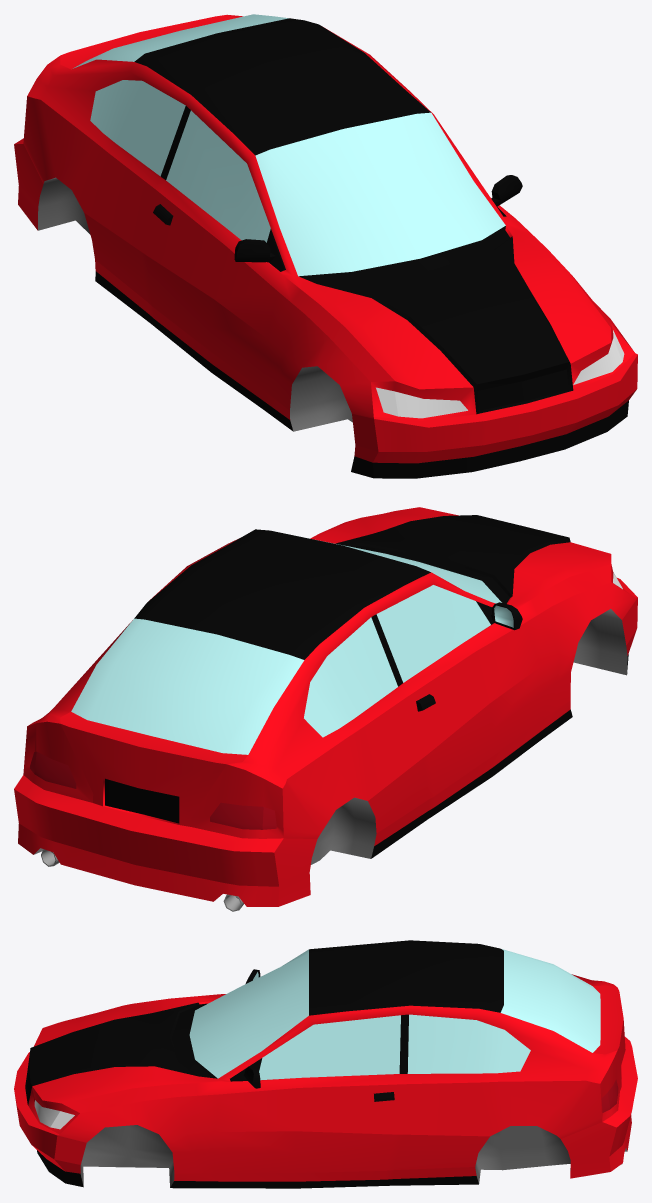
Rendered from S64Compact_Body_1.fbx.
3 views of the same model, one above another, from view 1: azimuth 30°, elevation 25°; view 2: azimuth 150°, elevation 25°; view 3: azimuth 270°, elevation 25° (orthographic). The views are drawn at different scales.
Parts seen in each view (by area): view 1: Cube.005; view 2: Cube.005; view 3: Cube.005.
Part boxes in pixels (left/top/right/bottom): Cube.005: left=14, top=14, right=637, bottom=478; Cube.005: left=14, top=507, right=637, bottom=911; Cube.005: left=14, top=940, right=637, bottom=1188.
Bounding box in the file's own units: 134 × 96.8 × 328.
